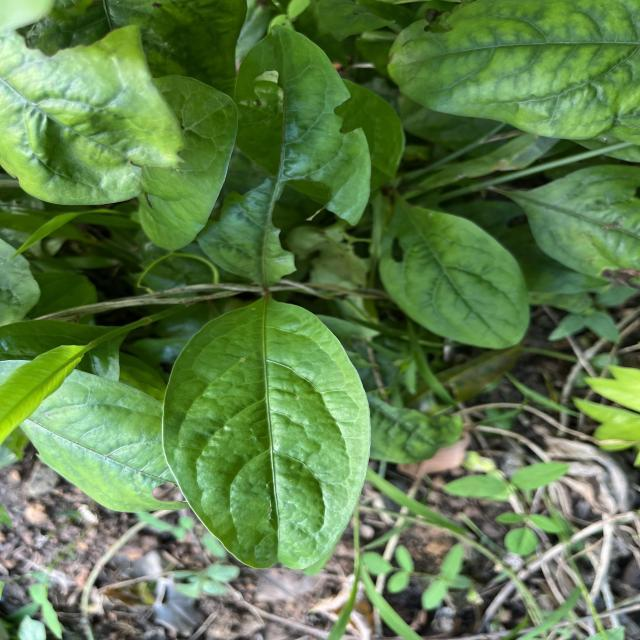Plumbago indica: (155, 290, 378, 574), (386, 0, 640, 143), (377, 191, 533, 353)
